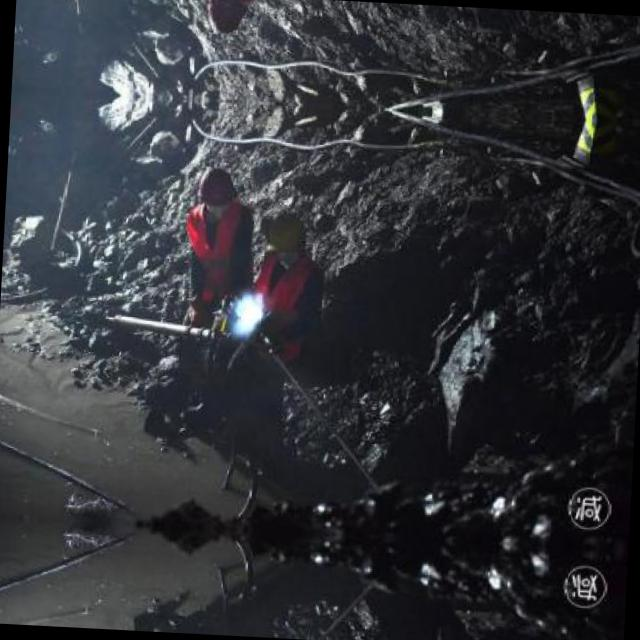helmet: (194, 165, 238, 218), (260, 212, 306, 261), (202, 0, 247, 37)
